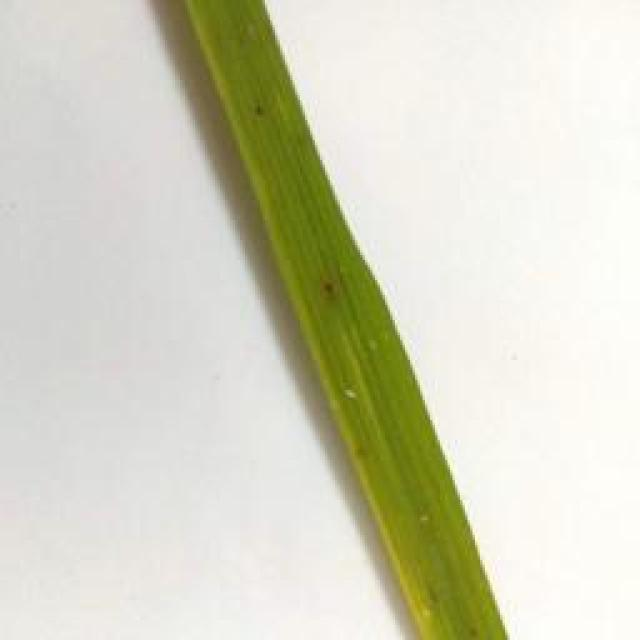Brown_Spot: (314, 270, 346, 312), (248, 91, 272, 128)
